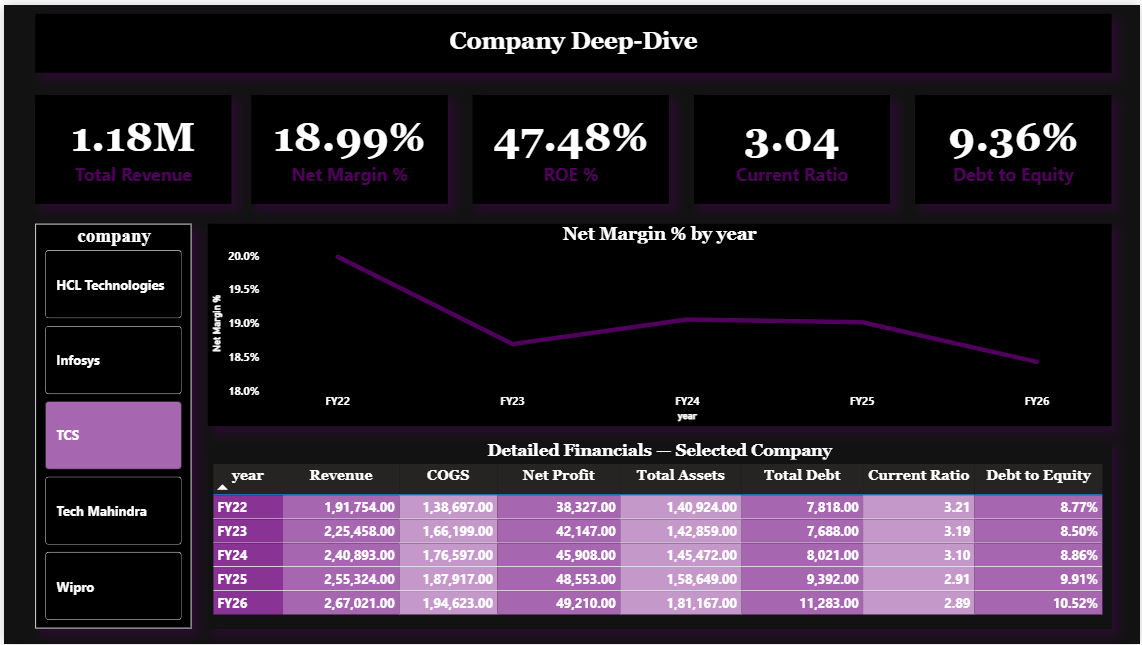

This screenshot's page, from the dashboard's own definition file:
{"tool":"powerbi","page":{"name":"Deep-Dive","canvas":[1280,720],"ordinal":3},"visuals":[{"type":"textbox","box":[35.2,9.9,1212.7,66.2],"z":0},{"type":"advancedSlicerVisual","fields":{"Values":["public it_financials.company"]},"box":[35.2,246.5,176.1,456.3],"z":1000},{"type":"cardVisual","fields":{"Data":["Measures (2).Total Revenue"]},"box":[35.2,101.4,221.1,122.5],"z":2000},{"type":"cardVisual","fields":{"Data":["Measures (2).Net Margin %"]},"box":[278.9,101.4,221.1,122.5],"z":3000},{"type":"cardVisual","fields":{"Data":["Measures (2).ROE %"]},"box":[528.2,101.4,221.1,122.5],"z":4000},{"type":"cardVisual","fields":{"Data":["Measures (2).Current Ratio"]},"box":[777.5,101.4,221.1,122.5],"z":5000},{"type":"cardVisual","fields":{"Data":["Measures (2).Debt to Equity"]},"box":[1026.8,101.4,221.1,122.5],"z":6000},{"type":"lineChart","fields":{"Category":["public it_financials.year"],"Y":["Measures (2).Net Margin %"]},"box":[229.6,246.5,1018.3,228.2],"z":6001},{"type":"tableEx","title":"Detailed Financials — Selected Company","fields":{"Values":["public it_financials.year","Sum(public it_financials.revenue)","Sum(public it_financials.cogs)","Sum(public it_financials.net_profit)","Sum(public it_financials.total_assets)","Sum(public it_financials.total_debt)","Measures (2).Current Ratio","Measures (2).Debt to Equity"]},"box":[229.6,491.5,1018.3,211.3],"z":6002}]}

Visuals, with their boxes in screenshot pixels (x1, y1, x2, y2), scaled from the page's 1280x720 canvas onto the 1142x645 screenshot:
textbox: select_region(31, 9, 1113, 68)
advancedSlicerVisual - public it_financials.company: select_region(31, 221, 189, 630)
cardVisual - Measures (2).Total Revenue: select_region(31, 91, 229, 201)
cardVisual - Measures (2).Net Margin %: select_region(249, 91, 446, 201)
cardVisual - Measures (2).ROE %: select_region(471, 91, 669, 201)
cardVisual - Measures (2).Current Ratio: select_region(694, 91, 891, 201)
cardVisual - Measures (2).Debt to Equity: select_region(916, 91, 1113, 201)
lineChart - public it_financials.year x Measures (2).Net Margin %: select_region(205, 221, 1113, 425)
"Detailed Financials — Selected Company" tableEx: select_region(205, 440, 1113, 630)
